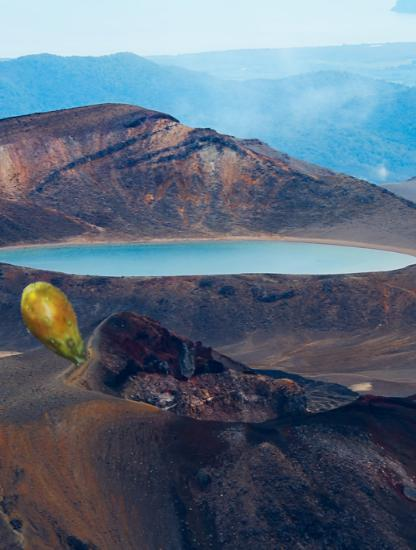Cactus: (8, 277, 103, 372)
